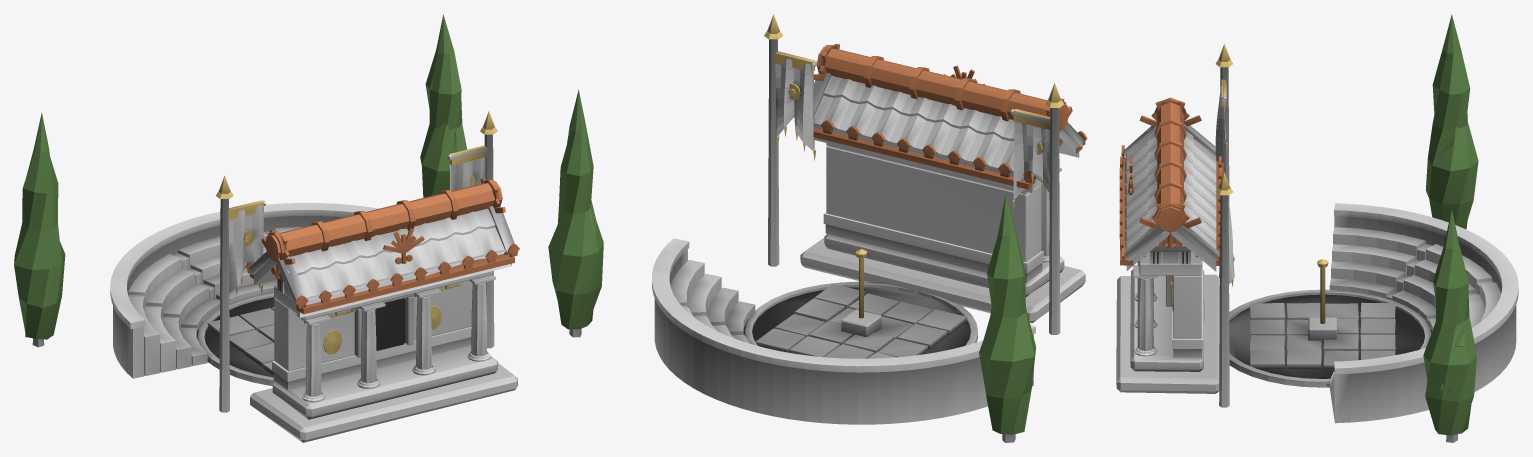
File: hall-of-rhapsodes-l1.glb
The picture shows the model from 3 angles, left to right: view 1: azimuth 30°, elevation 25°; view 2: azimuth 150°, elevation 25°; view 3: azimuth 270°, elevation 25°; orthographic projection. The views are drawn at different scales.
Parts seen in each view (by area): view 1: hall-of-rhapsodes-l1; view 2: hall-of-rhapsodes-l1; view 3: hall-of-rhapsodes-l1.
Part boxes in pixels (<box>): hall-of-rhapsodes-l1: <box>14,14,519,442</box>; hall-of-rhapsodes-l1: <box>548,14,1087,442</box>; hall-of-rhapsodes-l1: <box>1116,14,1518,442</box>.
Size of the model in its own units: 1.71 by 0.8522 by 1.33.
